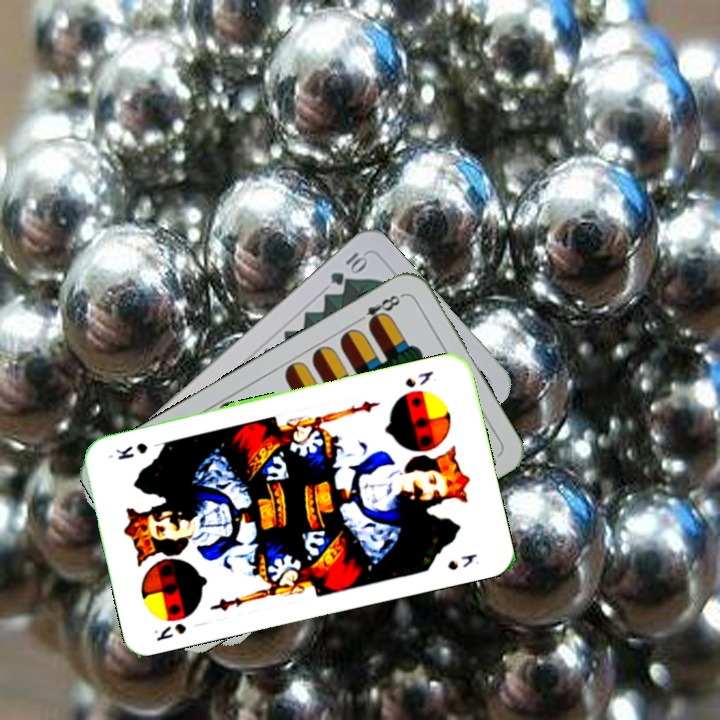E8: (352, 290, 406, 330)
G10: (326, 248, 370, 288)
SK: (149, 619, 189, 644), (401, 367, 436, 390)
